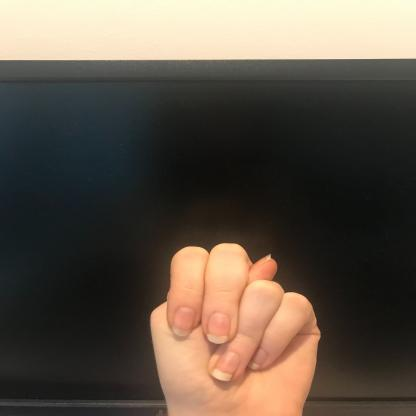N: (142, 238, 327, 415)
